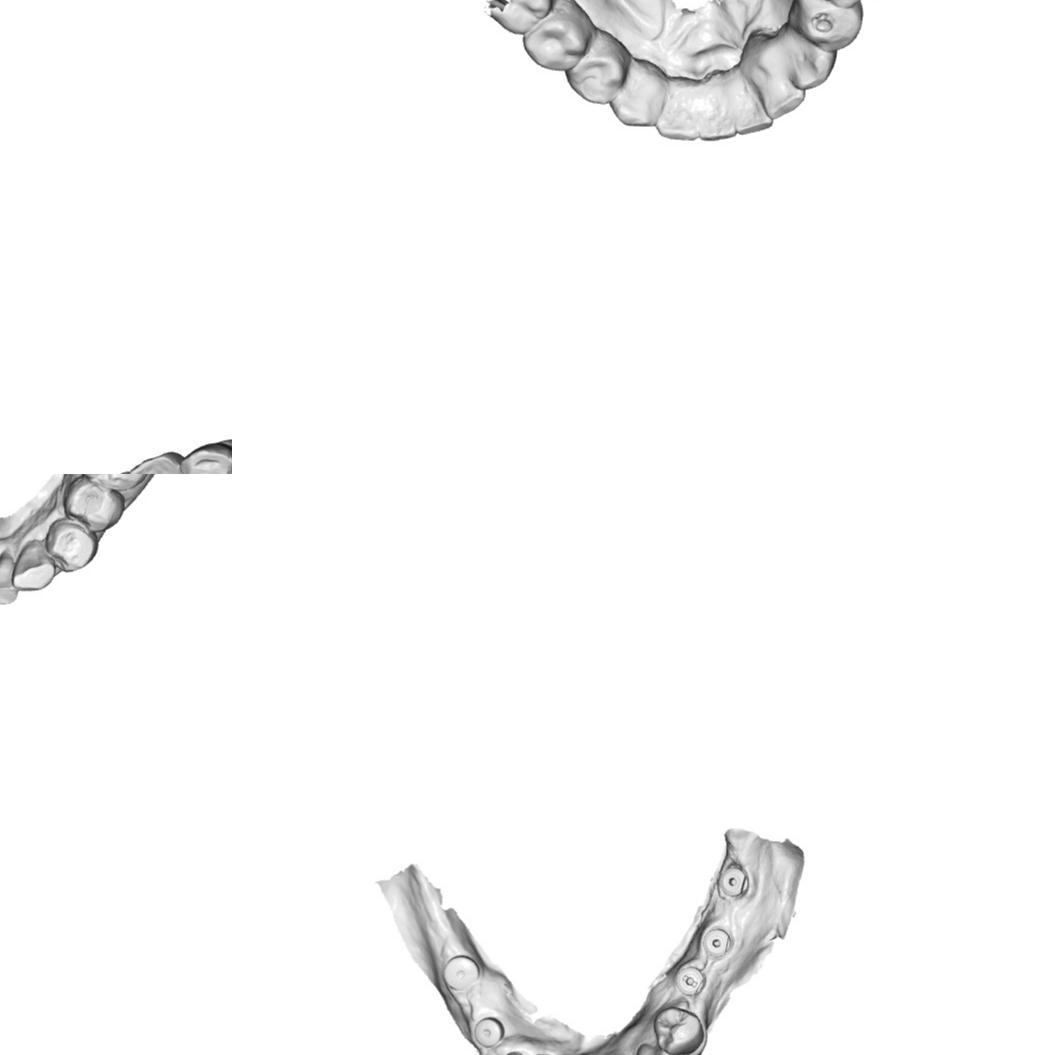canine: (612, 68, 665, 129), (782, 38, 836, 90), (11, 537, 56, 591), (180, 442, 232, 474), (632, 1041, 677, 1055)
implant: (441, 952, 480, 992), (716, 865, 752, 898), (698, 926, 734, 959), (471, 1016, 505, 1048)
implant_minus: (674, 962, 706, 997)
incisor: (758, 69, 806, 122), (654, 88, 701, 140), (696, 92, 736, 141), (732, 90, 775, 135), (132, 454, 195, 474), (0, 547, 19, 605)
molar: (78, 474, 160, 491)
premolar: (521, 9, 588, 75), (795, 0, 867, 57), (567, 44, 628, 106), (62, 475, 126, 533), (44, 517, 100, 573), (650, 1004, 705, 1055)
